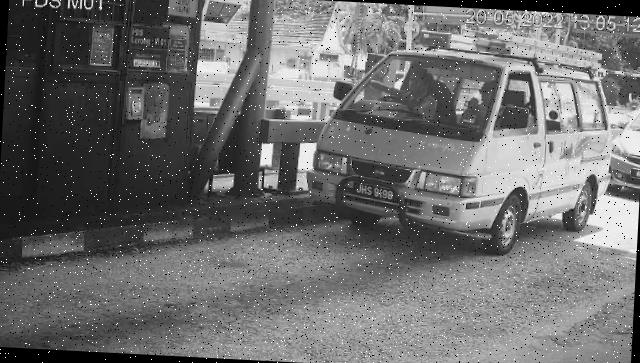License_Plate: (358, 182, 398, 203)
van: (305, 23, 618, 261)
